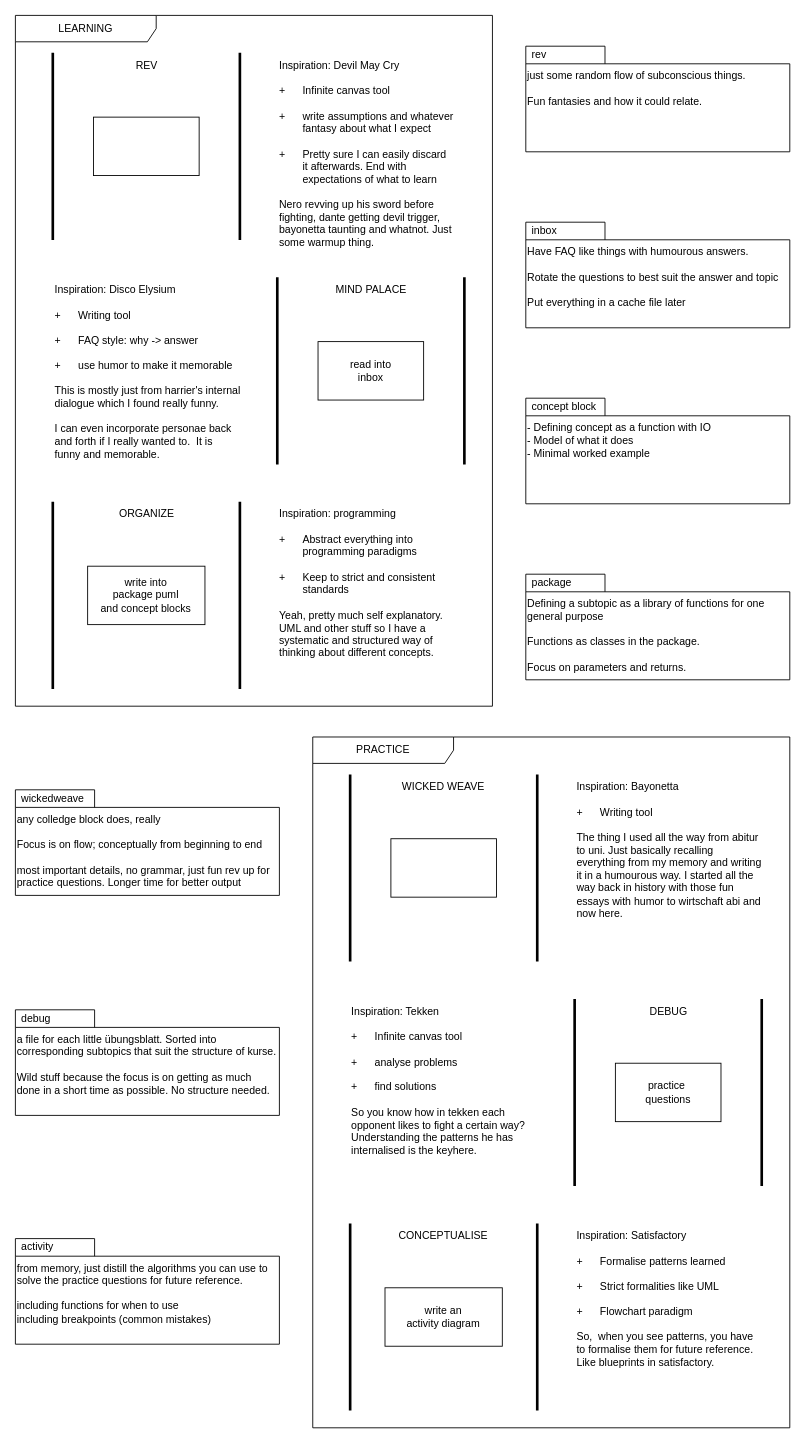
Image size: 805x1443. Some labels were removed from this diagram. Here are the shapes that lost their labels. From the top down, the centre of each, then its label:
At (x=146, y=146): "warmup (5 mins)".
At (x=443, y=867): "active recall".
